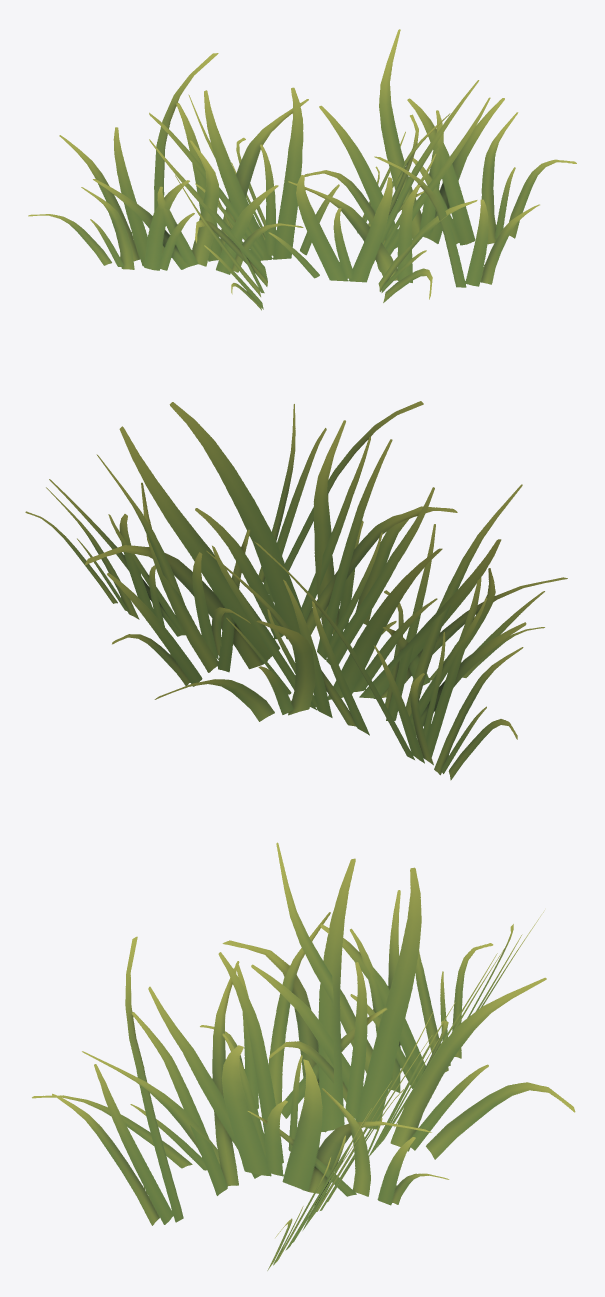
File: grass_clump_01.fbx
The picture shows the model from 3 angles, top to bottom: view 1: azimuth 30°, elevation 25°; view 2: azimuth 150°, elevation 25°; view 3: azimuth 270°, elevation 25°; orthographic projection. The views are drawn at different scales.
Visible parts, largest first — view 1: grass_clump_01; view 2: grass_clump_01; view 3: grass_clump_01.
Boxes of the visible parts, left/top/right/bottom form: grass_clump_01: left=28, top=29, right=576, bottom=310; grass_clump_01: left=25, top=401, right=567, bottom=780; grass_clump_01: left=32, top=842, right=575, bottom=1270.
Bounding box in the file's own units: 7638 × 2846 × 6035.
